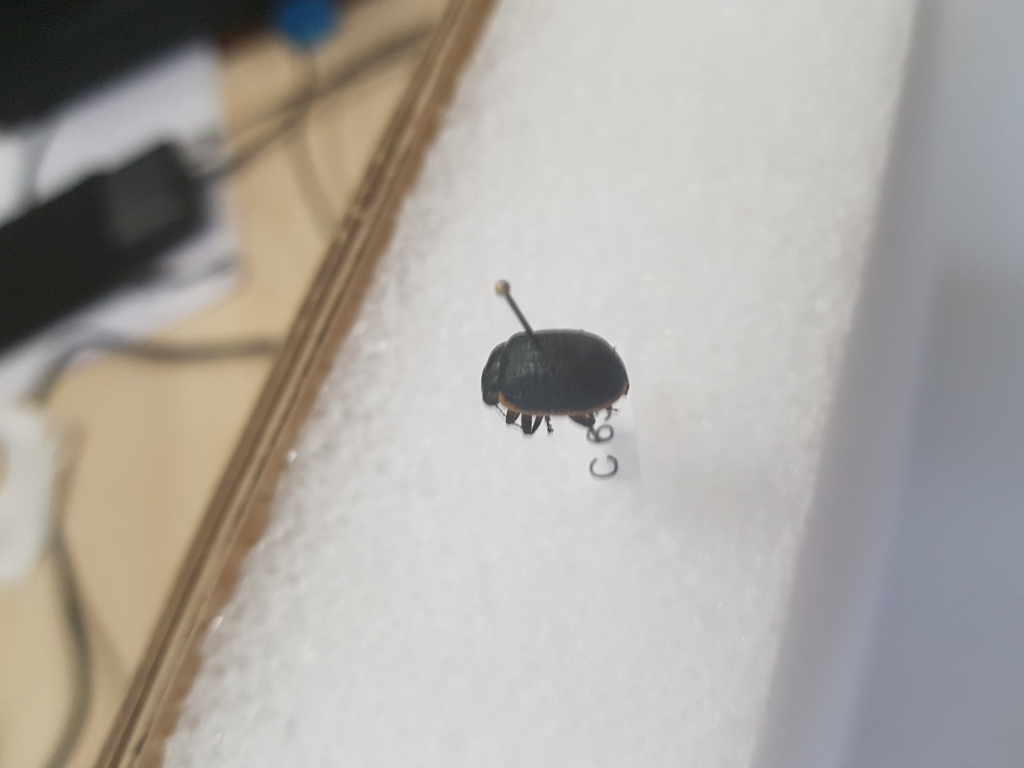Chrysolina_gypsophila: (471, 323, 637, 443)
